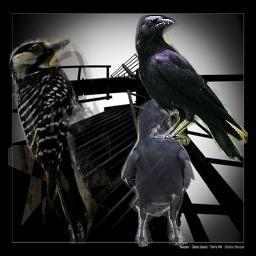Crow: (135, 15, 248, 161), (121, 99, 197, 247)
Woodpecker: (8, 38, 111, 247)
